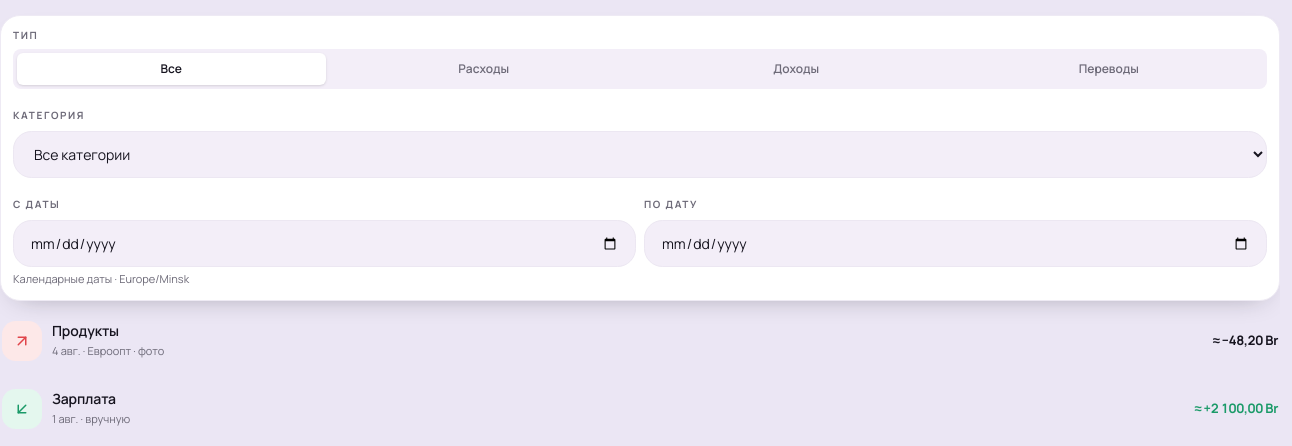
it: HistoryPanel › disables Category filter when kind is Income
The width and height of the screenshot is (1292, 446).
Click the button "Доходы" at (796,69), box x1=642 y1=53 x2=950 y2=85
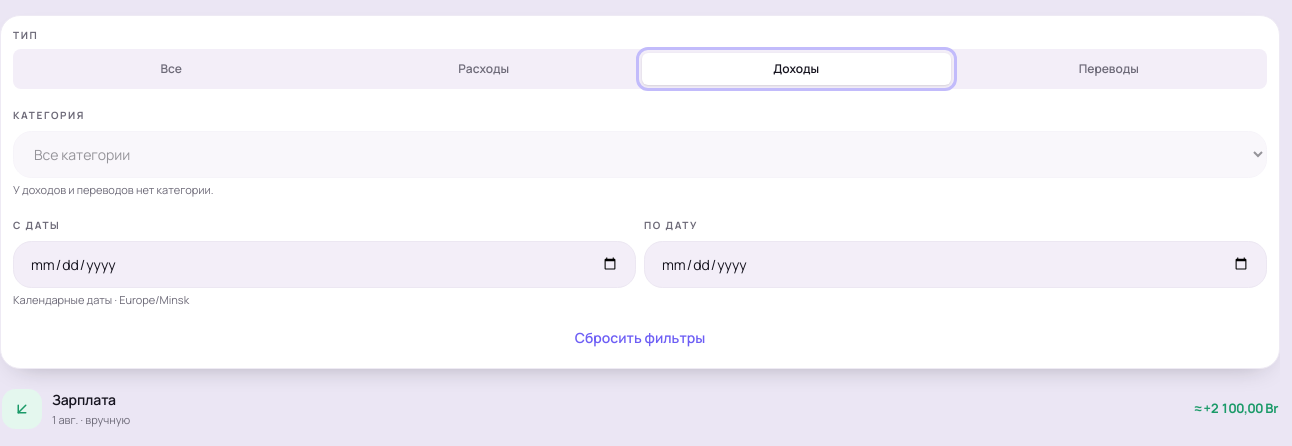
Expected: the dropdown labelled "Категория" is disabled, x1=13 y1=131 x2=1267 y2=178
Expected: the text "У доходов и переводов нет категории." is shown, x1=13 y1=182 x2=214 y2=197
Expected: the link "Продукты" is gone
